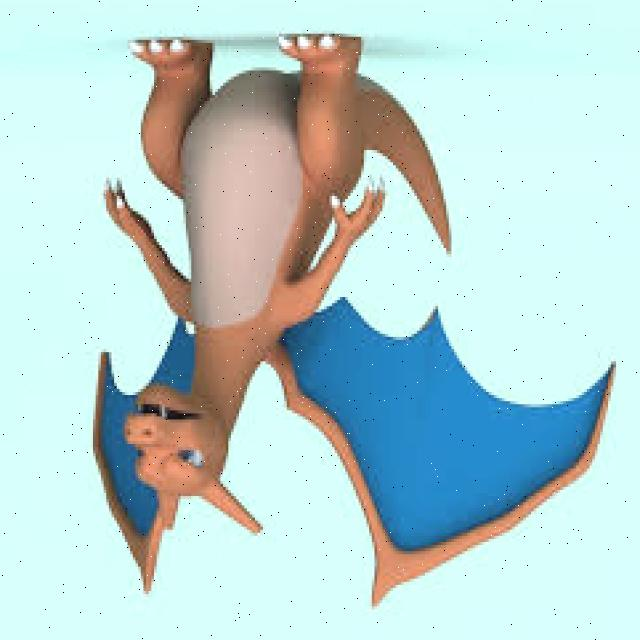charizard: (89, 38, 616, 617)
